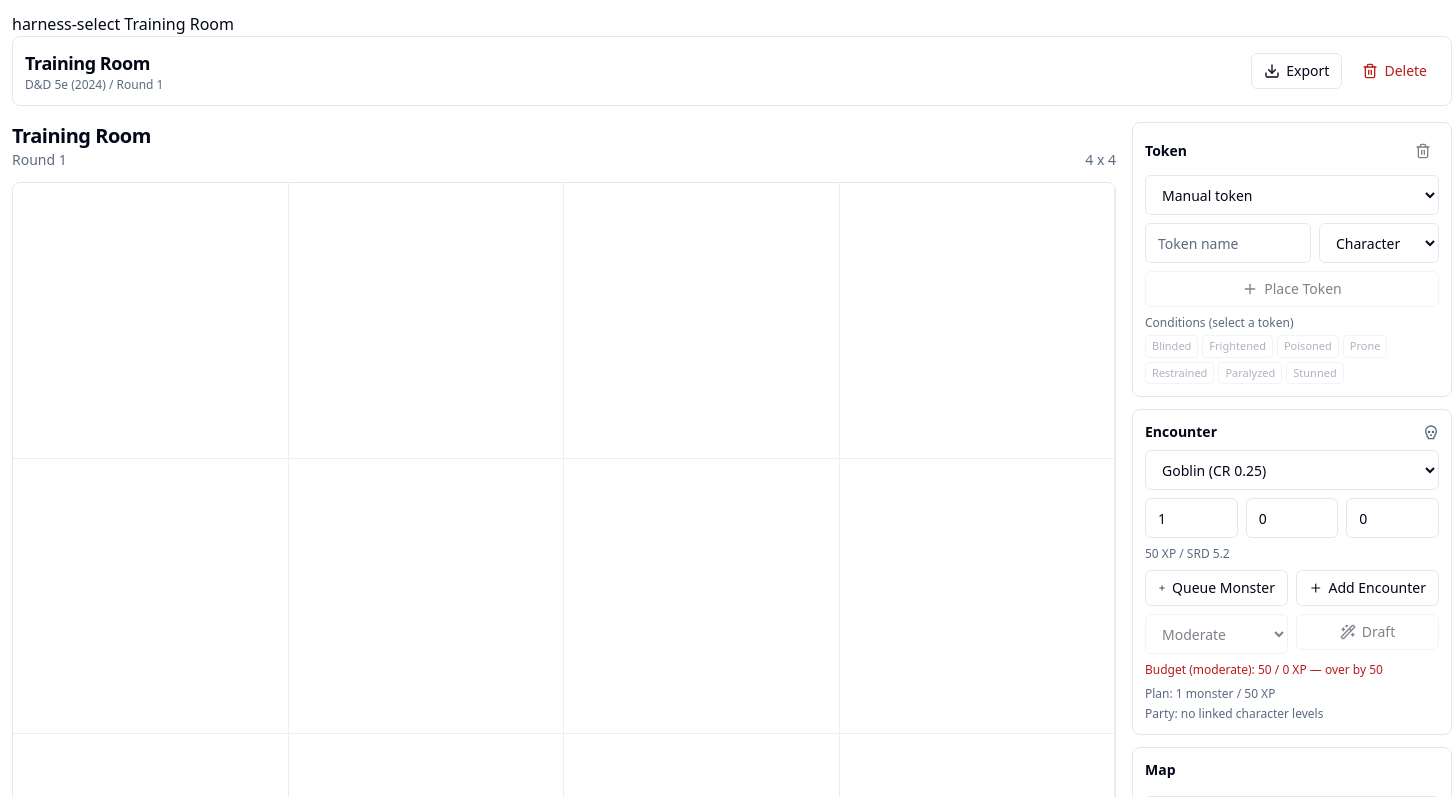
Test: SceneManager › adds loader-backed monsters as an event-backed encounter
Expected: the dropdown named "encounter monster" shows "Goblin (CR 0.25)", [1145,450,1439,490]
Replace the text in the field named "encounter count" with "2" at (1191, 518), box [1145,498,1238,538]
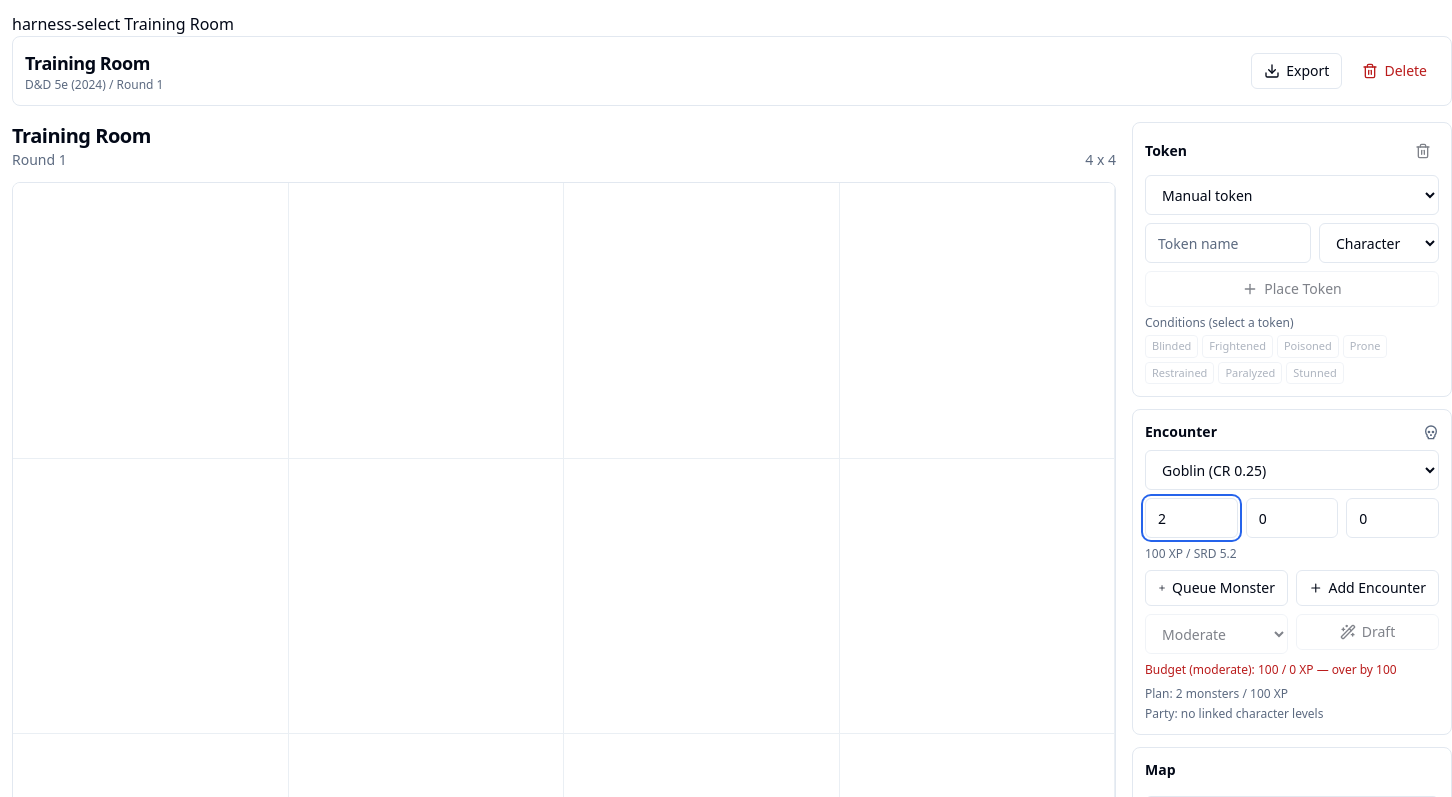
Click the button "Add Encounter" at (1368, 588), box [1296,570,1439,606]
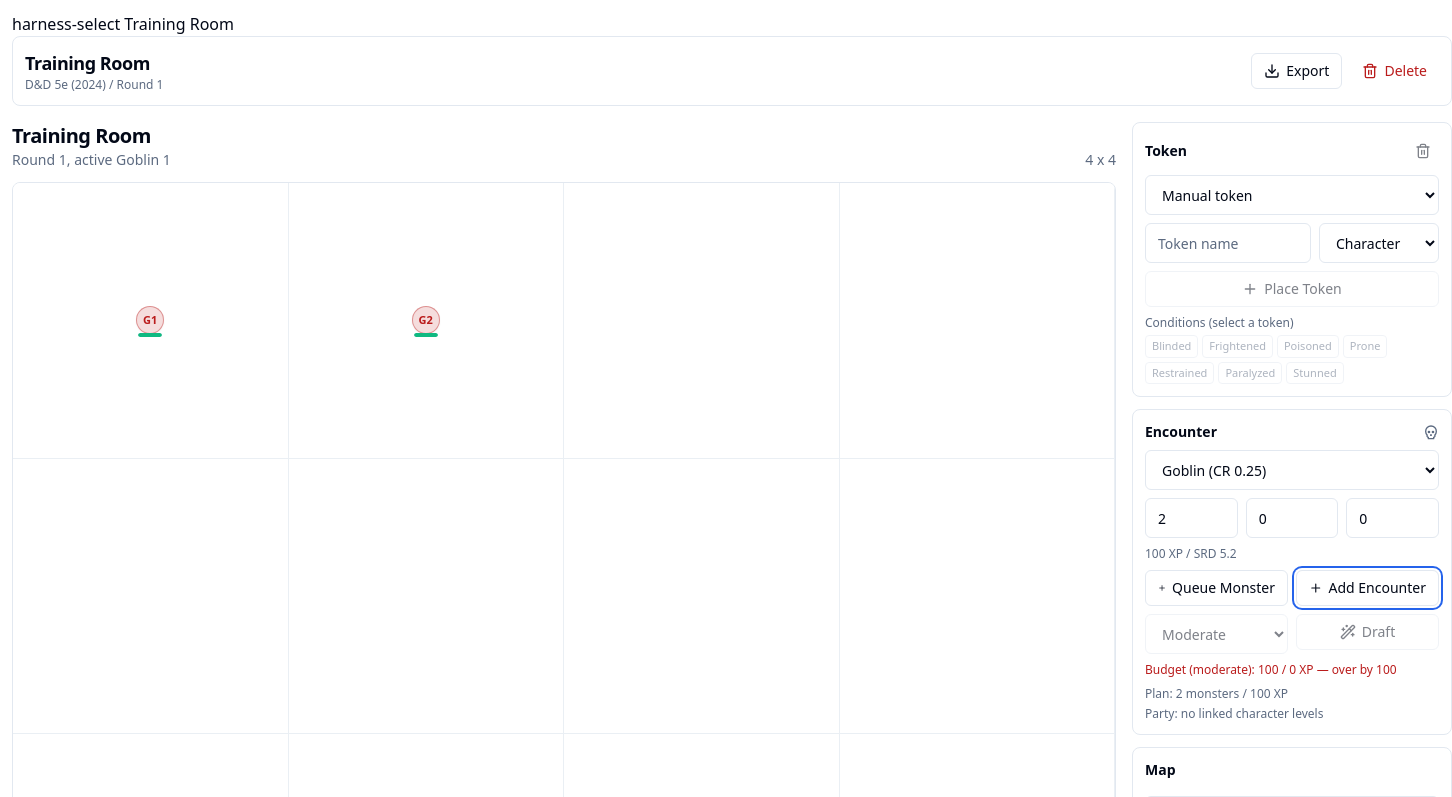
Expected: the text "100 XP / SRD 5.2" is shown, [1145,545,1237,562]
Expected: the button named "Token Goblin 1" is shown, [136,306,164,334]
Expected: the button named "Token Goblin 2" is shown, [412,306,440,334]
